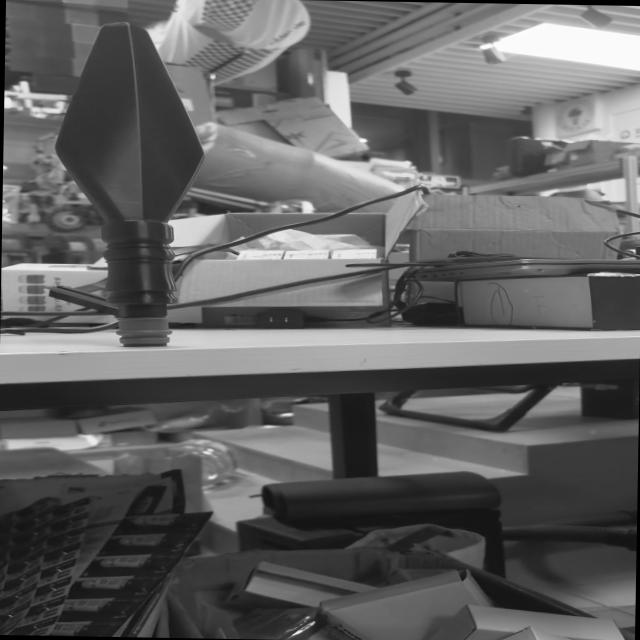base: (112, 314, 178, 350)
